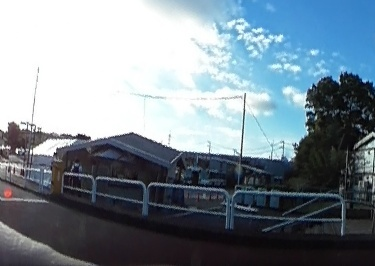person: (69, 156, 82, 191)
